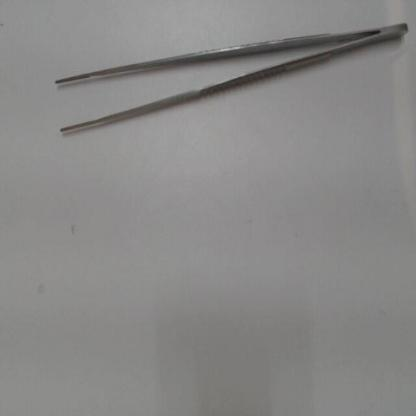DeBakey Dissector: (45, 11, 413, 154)
